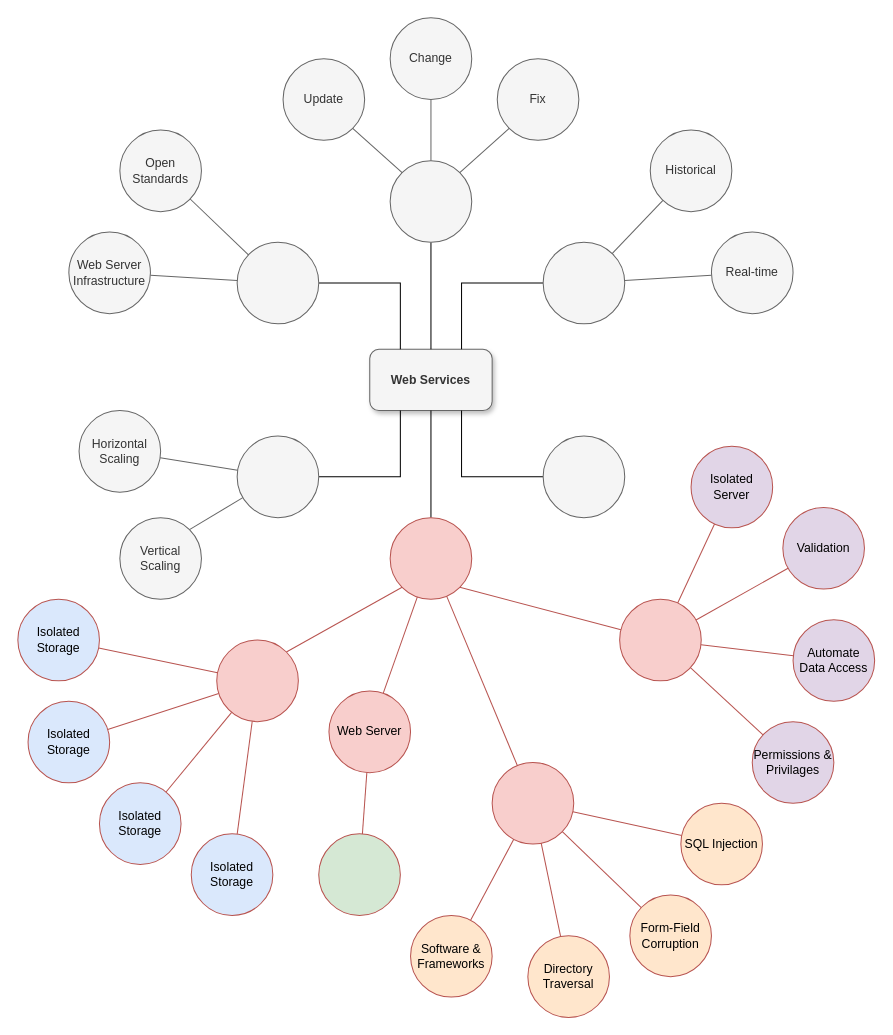
Some shapes in this 893 by 1035 pixel diagram are drawn without their labels. Each missing label, with the centre of its shape:
"Application" goes at (660,639).
"Building" goes at (277,282).
"Connections & Certificates" goes at (257,680).
"Content" goes at (532,802).
"Hosting" goes at (583,476).
"Monitoring" goes at (583,282).
"Policies" goes at (430,201).
"Scaling" goes at (277,476).
"Security" goes at (430,558).
"Vendor Support" goes at (359,874).
